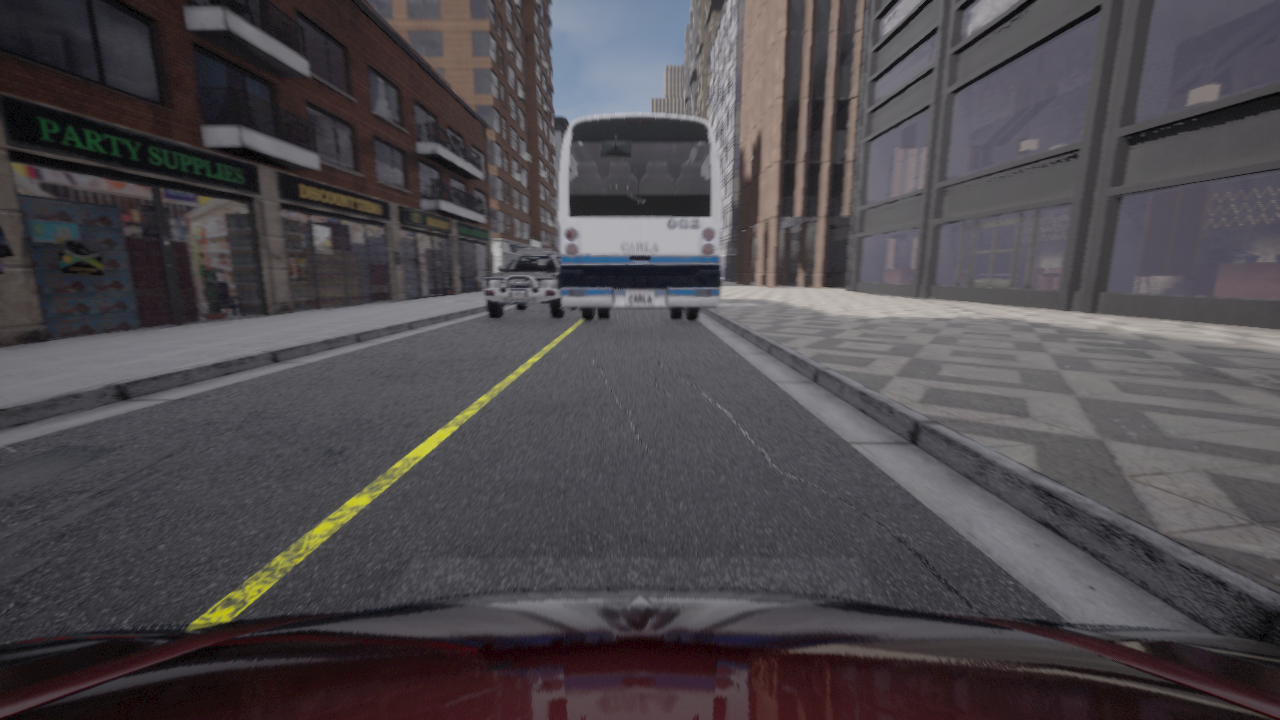cyclist: (0, 588, 1279, 719), (559, 113, 720, 320), (483, 250, 575, 318)
